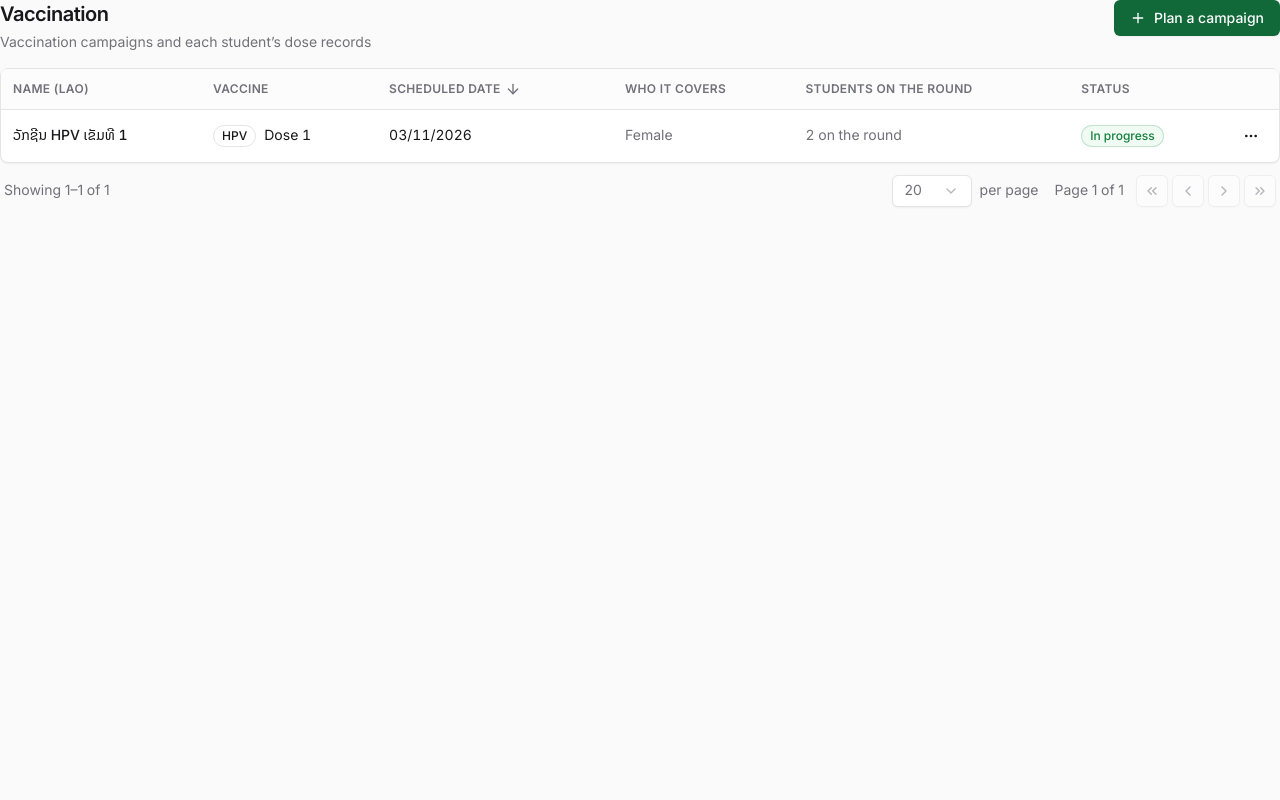
Test: VaccinationsPage › opens the campaign form with every field it declares
Expected: the text "ວັກຊີນ HPV ເຂັມທີ 1" is shown, [13,123,128,146]
Click the button "Plan a campaign" at x=1197, y=18, box [1114,0,1279,36]
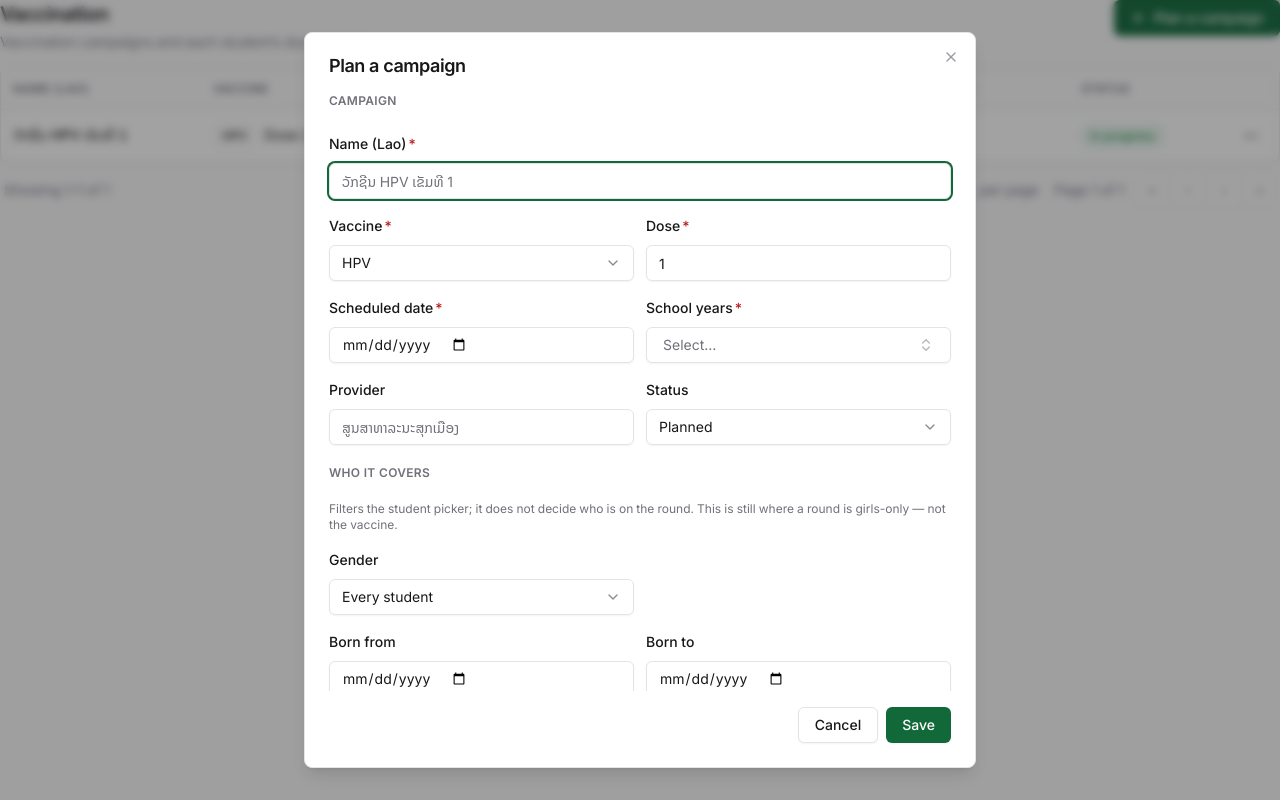
Expected: the field labelled "Name (Lao)*" is shown, [329,163,951,199]
Expected: the date field labelled "Scheduled date*" is shown, [329,327,634,363]
Expected: the text "Filters the student picker" is shown, [329,499,946,535]
